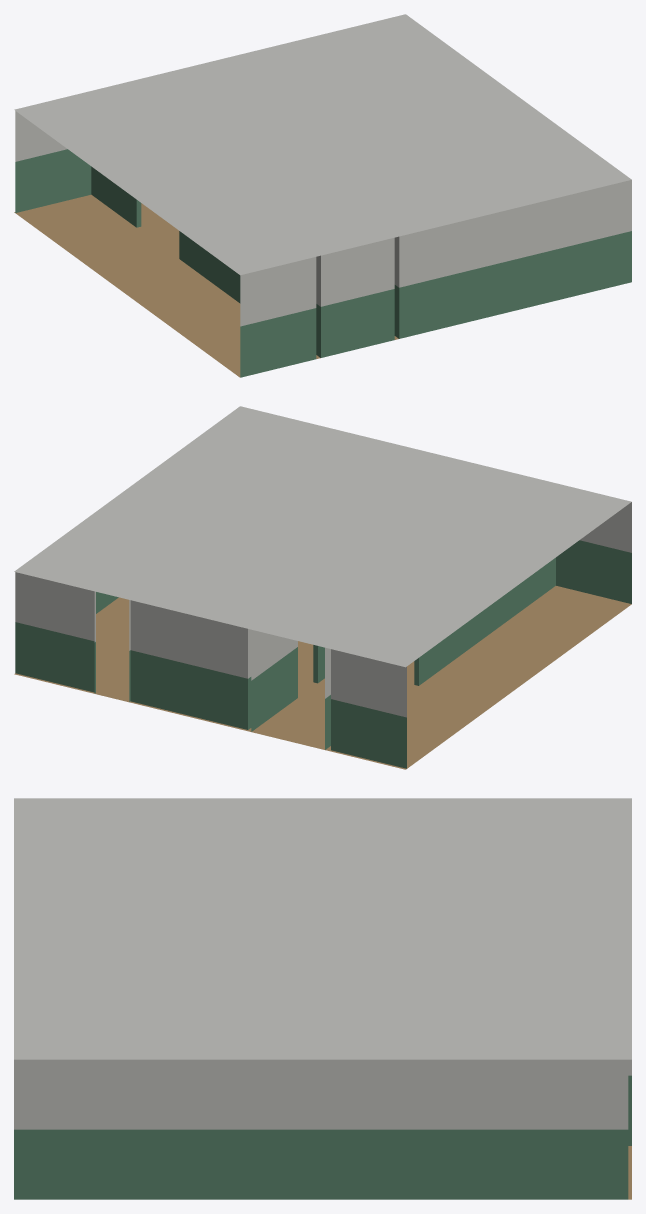
Rendered from chunk_3_3.glb.
3 views of the same model, one above another, from view 1: azimuth 30°, elevation 25°; view 2: azimuth 150°, elevation 25°; view 3: azimuth 270°, elevation 25° (orthographic). The views are drawn at different scales.
Visible parts, largest first — view 1: chunk_3_3; view 2: chunk_3_3; view 3: chunk_3_3.
Part boxes in pixels (x1,y1,x2,y2): chunk_3_3: (14, 14, 631, 377); chunk_3_3: (14, 406, 631, 769); chunk_3_3: (14, 798, 631, 1199).
Size of the model in its own units: 12 by 3 by 12.
